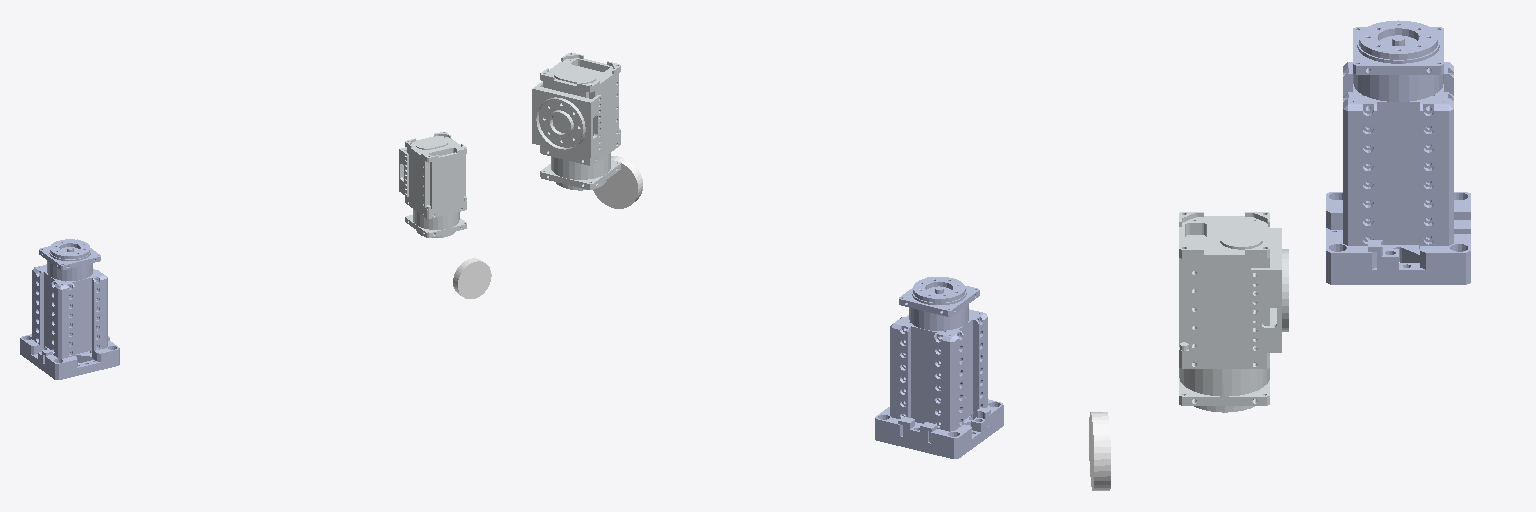
robot.urdf — single_arm_v12:
<?xml version="1.0" encoding="utf-8"?>
<!-- This URDF was automatically created by SolidWorks to URDF Exporter! Originally created by [author] ([email redacted]) 
     Commit Version: 1.6.0-4-g7f85cfe  Build Version: 1.6.7995.38578
     For more information, please see http://wiki.ros.org/sw_urdf_exporter -->
<robot
  name="single_arm_v12">
  <link
    name="base_link">
    <inertial>
      <origin
        xyz="0.00015625 0.00020296 0.064397"
        rpy="0 0 0" />
      <mass
        value="0.47711" />
      <inertia
        ixx="0.00059036"
        ixy="3.555E-10"
        ixz="4.1821E-06"
        iyy="0.00058997"
        iyz="9.8398E-08"
        izz="0.00022102" />
    </inertial>
    <visual>
      <origin
        xyz="0 0 0"
        rpy="0 0 0" />
      <geometry>
        <mesh
          filename="package://single_arm_v12/meshes/base_link.STL" />
      </geometry>
      <material
        name="">
        <color
          rgba="0.79216 0.81961 0.93333 1" />
      </material>
    </visual>
    <collision>
      <origin
        xyz="0 0 0"
        rpy="0 0 0" />
      <geometry>
        <mesh
          filename="package://single_arm_v12/meshes/base_link.STL" />
      </geometry>
    </collision>
  </link>
  <link
    name="Link1">
    <inertial>
      <origin
        xyz="3.4484E-06 0.00039863 0.028769"
        rpy="0 0 0" />
      <mass
        value="0.38613" />
      <inertia
        ixx="0.00047431"
        ixy="-7.0827E-08"
        ixz="-3.5556E-10"
        iyy="0.00017465"
        iyz="4.1821E-06"
        izz="0.00048907" />
    </inertial>
    <visual>
      <origin
        xyz="0 0 0"
        rpy="0 0 0" />
      <geometry>
        <mesh
          filename="package://single_arm_v12/meshes/Link1.STL" />
      </geometry>
      <material
        name="">
        <color
          rgba="0.79216 0.81961 0.93333 1" />
      </material>
    </visual>
    <collision>
      <origin
        xyz="0 0 0"
        rpy="0 0 0" />
      <geometry>
        <mesh
          filename="package://single_arm_v12/meshes/Link1.STL" />
      </geometry>
    </collision>
  </link>
  <joint
    name="Joint1"
    type="revolute">
    <origin
      xyz="0 0 0.1445"
      rpy="0 0 0" />
    <parent
      link="base_link" />
    <child
      link="Link1" />
    <axis
      xyz="0 0 1" />
    <limit
      lower="-3.14"
      upper="3.14"
      effort="0"
      velocity="0" />
  </joint>
  <link
    name="Link2">
    <inertial>
      <origin
        xyz="0.13568 -0.00070506 0.0057888"
        rpy="0 0 0" />
      <mass
        value="0.61539" />
      <inertia
        ixx="0.0005945"
        ixy="1.0755E-06"
        ixz="3.5702E-06"
        iyy="0.00064394"
        iyz="-8.2912E-08"
        izz="0.00039018" />
    </inertial>
    <visual>
      <origin
        xyz="0 0 0"
        rpy="0 0 0" />
      <geometry>
        <mesh
          filename="package://single_arm_v12/meshes/Link2.STL" />
      </geometry>
      <material
        name="">
        <color
          rgba="0.89804 0.91765 0.92941 1" />
      </material>
    </visual>
    <collision>
      <origin
        xyz="0 0 0"
        rpy="0 0 0" />
      <geometry>
        <mesh
          filename="package://single_arm_v12/meshes/Link2.STL" />
      </geometry>
    </collision>
  </link>
  <joint
    name="Joint2"
    type="revolute">
    <origin
      xyz="0 -0.0685 0.0315"
      rpy="1.5708 0 0" />
    <parent
      link="Link1" />
    <child
      link="Link2" />
    <axis
      xyz="0 0 1" />
    <limit
      lower="-3.14"
      upper="3.14"
      effort="0"
      velocity="0" />
  </joint>
  <link
    name="Link3">
    <inertial>
      <origin
        xyz="0.135406483957112 0.000471066373987292 -0.00759294057285472"
        rpy="0 0 0" />
      <mass
        value="0.558726771182515" />
      <inertia
        ixx="0.000527368072379024"
        ixy="-8.79483327326058E-07"
        ixz="-3.57015353375444E-06"
        iyy="0.000579703994248901"
        iyz="-8.29116899084273E-08"
        izz="0.000372569704142056" />
    </inertial>
    <visual>
      <origin
        xyz="0 0 0"
        rpy="0 0 0" />
      <geometry>
        <mesh
          filename="package://single_arm_v12/meshes/Link3.STL" />
      </geometry>
      <material
        name="">
        <color
          rgba="0.898039215686275 0.917647058823529 0.929411764705882 1" />
      </material>
    </visual>
    <collision>
      <origin
        xyz="0 0 0"
        rpy="0 0 0" />
      <geometry>
        <mesh
          filename="package://single_arm_v12/meshes/Link3.STL" />
      </geometry>
    </collision>
  </link>
  <joint
    name="Joint3"
    type="revolute">
    <origin
      xyz="0.214 0 -0.0325"
      rpy="0 0 0" />
    <parent
      link="Link2" />
    <child
      link="Link3" />
    <axis
      xyz="0 0 -1" />
    <limit
      lower="-3.14"
      upper="3.14"
      effort="0"
      velocity="0" />
  </joint>
  <link
    name="Link4">
    <inertial>
      <origin
        xyz="-1.11022302462516E-16 0.0124471610012716 0.0305494763505743"
        rpy="0 0 0" />
      <mass
        value="0.313854171959486" />
      <inertia
        ixx="0.00030905374217572"
        ixy="2.20104937481116E-19"
        ixz="1.99389141092033E-20"
        iyy="0.000138417182248756"
        iyz="-3.51429818496687E-06"
        izz="0.000324741574348905" />
    </inertial>
    <visual>
      <origin
        xyz="0 0 0"
        rpy="0 0 0" />
      <geometry>
        <mesh
          filename="package://single_arm_v12/meshes/Link4.STL" />
      </geometry>
      <material
        name="">
        <color
          rgba="0.898039215686275 0.917647058823529 0.929411764705882 1" />
      </material>
    </visual>
    <collision>
      <origin
        xyz="0 0 0"
        rpy="0 0 0" />
      <geometry>
        <mesh
          filename="package://single_arm_v12/meshes/Link4.STL" />
      </geometry>
    </collision>
  </link>
  <joint
    name="Joint4"
    type="revolute">
    <origin
      xyz="0.214 0 0.0325"
      rpy="0 0 3.1416" />
    <parent
      link="Link3" />
    <child
      link="Link4" />
    <axis
      xyz="0 0 1" />
    <limit
      lower="-3.14"
      upper="3.14"
      effort="0"
      velocity="0" />
  </joint>
  <link
    name="Link5">
    <inertial>
      <origin
        xyz="0.0305494763505902 0.0124160882702156 -0.000878959076247798"
        rpy="0 0 0" />
      <mass
        value="0.313854171959487" />
      <inertia
        ixx="0.000324741574348905"
        ixy="-3.50552519309465E-06"
        ixz="2.48162957481373E-07"
        iyy="0.000139268063164469"
        iyz="1.20194589741801E-05"
        izz="0.000308202861260008" />
    </inertial>
    <visual>
      <origin
        xyz="0 0 0"
        rpy="0 0 0" />
      <geometry>
        <mesh
          filename="package://single_arm_v12/meshes/Link5.STL" />
      </geometry>
      <material
        name="">
        <color
          rgba="0.898039215686275 0.917647058823529 0.929411764705882 1" />
      </material>
    </visual>
    <collision>
      <origin
        xyz="0 0 0"
        rpy="0 0 0" />
      <geometry>
        <mesh
          filename="package://single_arm_v12/meshes/Link5.STL" />
      </geometry>
    </collision>
  </link>
  <joint
    name="Joint5"
    type="revolute">
    <origin
      xyz="0 0.0685 0.0346"
      rpy="1.5708 0 1.5708" />
    <parent
      link="Link4" />
    <child
      link="Link5" />
    <axis
      xyz="-1 0 0" />
    <limit
      lower="-3.14"
      upper="3.14"
      effort="0"
      velocity="0" />
  </joint>
  <link
    name="Link6">
    <inertial>
      <origin
        xyz="-0.20184 0.067993 -0.13565"
        rpy="0 0 0" />
      <mass
        value="5.5581" />
      <inertia
        ixx="0.039288"
        ixy="-0.0053509"
        ixz="-0.046451"
        iyy="0.22224"
        iyz="-5.0688E-05"
        izz="0.21337" />
    </inertial>
    <visual>
      <origin
        xyz="0 0 0"
        rpy="0 0 0" />
      <geometry>
        <mesh
          filename="package://single_arm_v12/meshes/Link6.STL" />
      </geometry>
      <material
        name="">
        <color
          rgba="1 1 1 1" />
      </material>
    </visual>
    <collision>
      <origin
        xyz="0 0 0"
        rpy="0 0 0" />
      <geometry>
        <mesh
          filename="package://single_arm_v12/meshes/Link6.STL" />
      </geometry>
    </collision>
  </link>
  <joint
    name="Joint6"
    type="revolute">
    <origin
      xyz="0.0346 0.068329 -0.0048371"
      rpy="3.1416 1.5001 -1.5708" />
    <parent
      link="Link5" />
    <child
      link="Link6" />
    <axis
      xyz="0 0 1" />
    <limit
      lower="-3.14"
      upper="3.14"
      effort="0"
      velocity="0" />
  </joint>
</robot>

--- Facts derived from the render (not from the file) ---
3 views of the same robot in one strip: view 1: azimuth 30°, elevation 25°; view 2: azimuth 150°, elevation 25°; view 3: azimuth 270°, elevation 25° (orthographic).
Robot: single_arm_v12 — 7 links, 6 joints (6 revolute); root link base_link; default pose: all joints at 0.
Visible links, largest first — view 1: base_link, Link4, Link6; view 2: base_link, Link4, Link6; view 3: base_link, Link4, Link6.
Link boxes in pixels (bbox=[...]): base_link: bbox=[20, 239, 119, 379]; Link4: bbox=[399, 132, 466, 237]; Link6: bbox=[453, 258, 491, 298]; base_link: bbox=[875, 277, 1003, 458]; Link4: bbox=[532, 52, 620, 190]; Link6: bbox=[593, 156, 642, 208]; base_link: bbox=[1326, 20, 1470, 284]; Link4: bbox=[1179, 212, 1288, 412]; Link6: bbox=[1089, 412, 1110, 490].
Bounding box of the posed robot: 0.501 × 0.2266 × 0.215 m (x, y, z).
Meshes: 7 distinct files referenced, 3 mesh visuals loaded (3 binary STL); not drawn: 4 (reference not matched to a file when rendering).